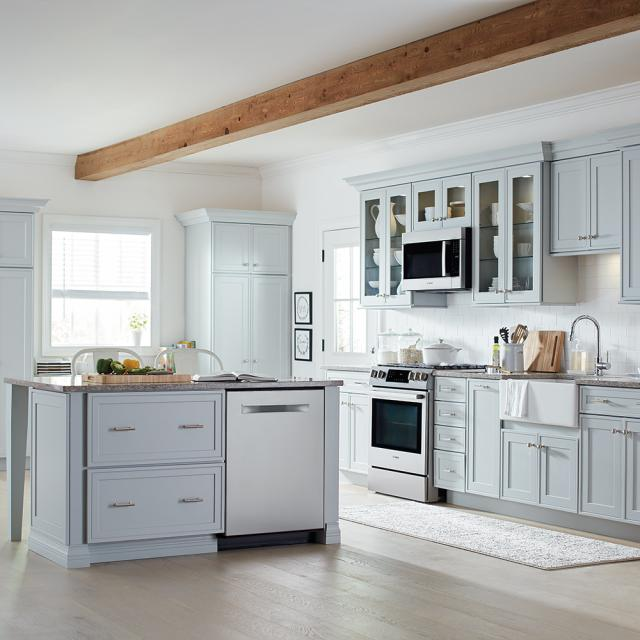dishwasher: (225, 387, 324, 554)
